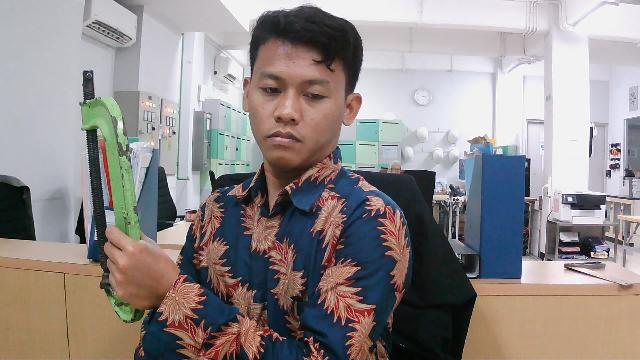tekiro_c_clamp: (73, 65, 160, 326)
